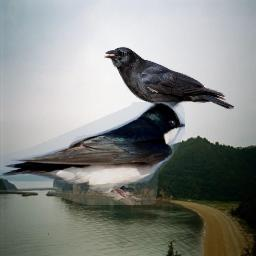Crow: (104, 46, 234, 141)
Swallow: (0, 102, 185, 205)
